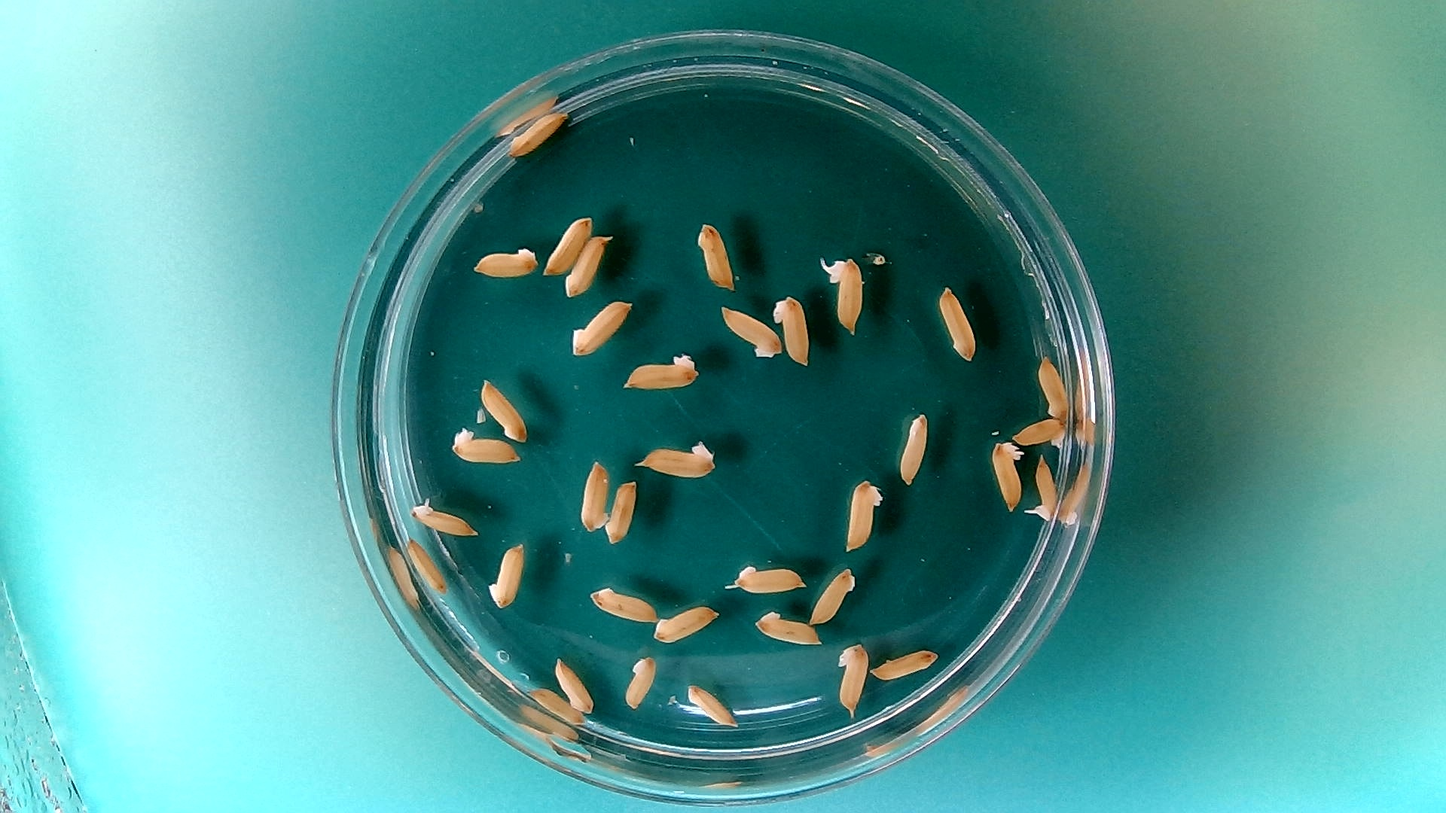no: (567, 295, 634, 358), (715, 302, 784, 360), (633, 436, 721, 480), (476, 374, 530, 443), (841, 473, 886, 554), (561, 230, 613, 300), (619, 349, 701, 392), (935, 282, 978, 362), (541, 212, 593, 278), (506, 107, 571, 159), (771, 291, 813, 369), (485, 537, 529, 611), (807, 563, 858, 626), (694, 219, 737, 293), (587, 582, 660, 625), (651, 601, 721, 645), (447, 424, 523, 464), (751, 605, 822, 647), (727, 559, 809, 595), (834, 639, 871, 718), (575, 455, 611, 535), (895, 409, 931, 487), (551, 653, 596, 715), (602, 478, 641, 548), (404, 534, 448, 596), (682, 681, 740, 728), (869, 645, 941, 682), (471, 241, 541, 279), (525, 684, 586, 727), (1035, 352, 1071, 420), (621, 653, 658, 711), (1010, 415, 1069, 449)
yes: (818, 251, 868, 337), (407, 494, 482, 537), (987, 437, 1027, 513), (1025, 450, 1059, 522)
